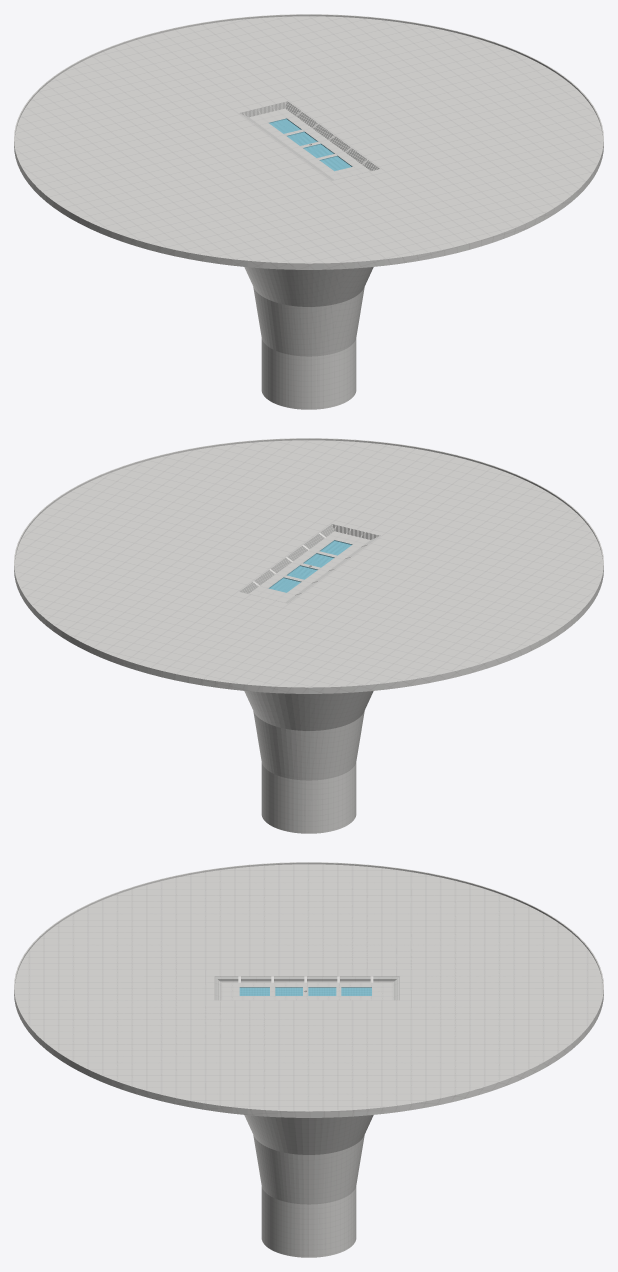
The model's file is platform1.dae.
The picture shows the model from 3 angles, top to bottom: view 1: azimuth 30°, elevation 25°; view 2: azimuth 150°, elevation 25°; view 3: azimuth 270°, elevation 25°; orthographic projection.
Visible parts, largest first — view 1: base-0; view 2: base-0; view 3: base-0.
Boxes of the visible parts, left/top/right/bottom form: base-0: left=14, top=14, right=603, bottom=409; base-0: left=14, top=438, right=603, bottom=833; base-0: left=14, top=862, right=603, bottom=1257.
Bounding box in the file's own units: 1004 × 471 × 1004.
